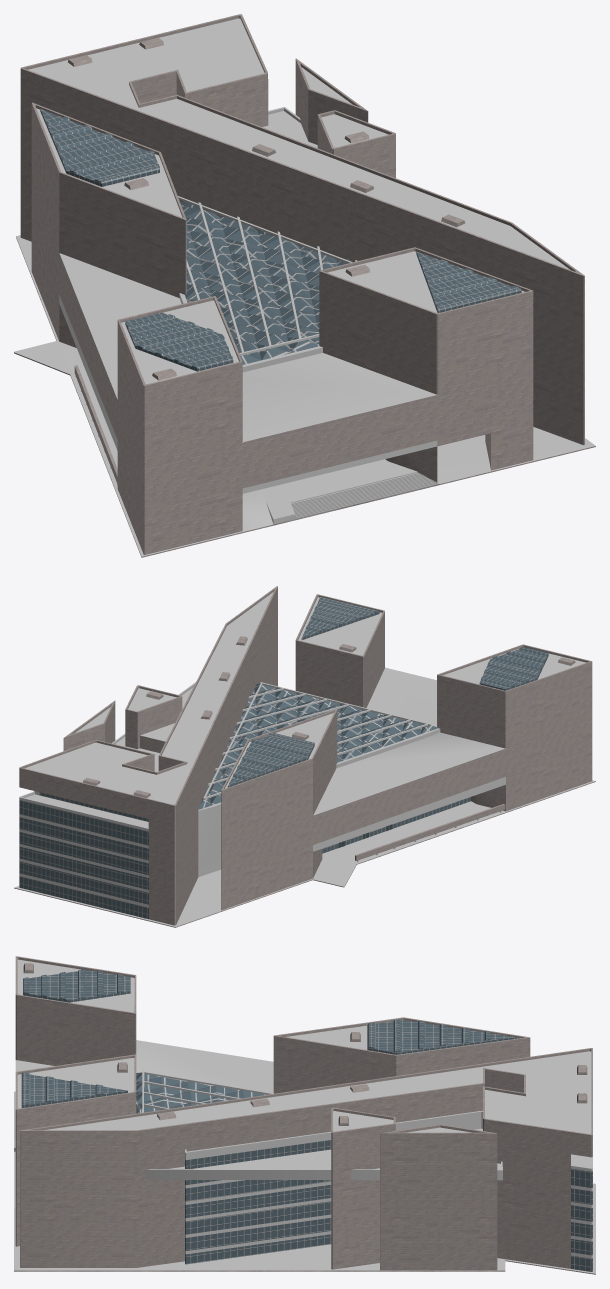
Rendered from National Gallery of Art.FBX.
3 views of the same model, one above another, from view 1: azimuth 30°, elevation 25°; view 2: azimuth 150°, elevation 25°; view 3: azimuth 270°, elevation 25° (orthographic). The views are drawn at different scales.
Visible parts, largest first — view 1: Line001; view 2: Line001; view 3: Line001.
Boxes of the visible parts, x1=… form: Line001: x1=14, y1=14, x2=595, y2=557; Line001: x1=14, y1=586, x2=595, y2=927; Line001: x1=14, y1=956, x2=595, y2=1274.
Bounding box in the file's own units: 239 × 84.92 × 322.
